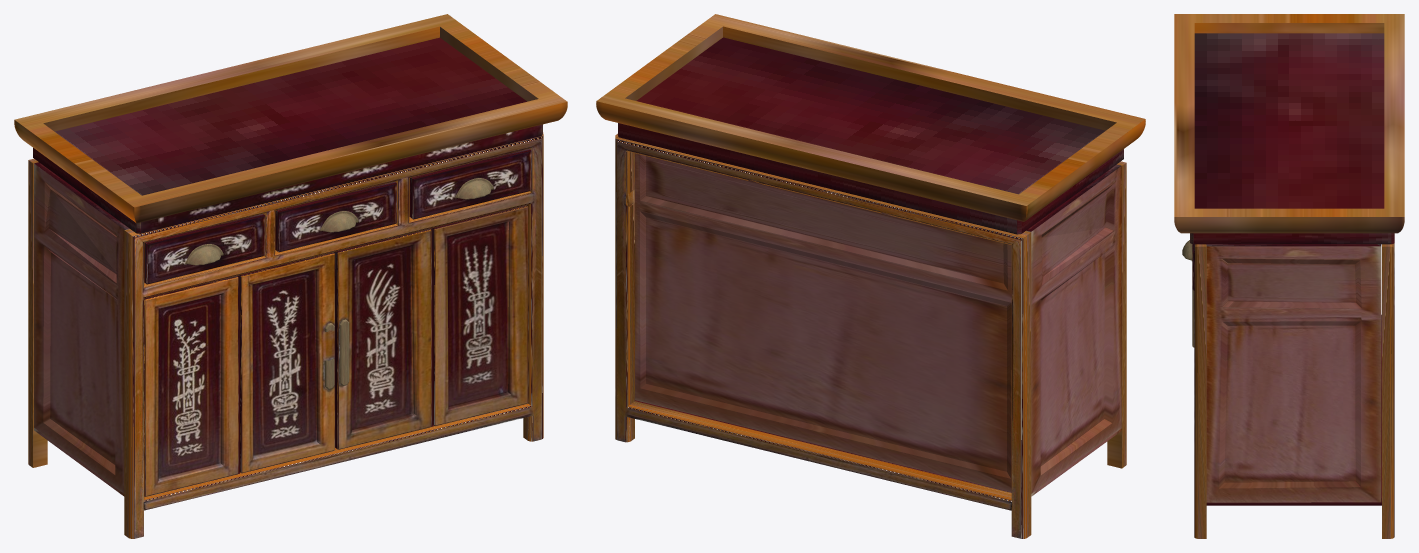
File: artisanal_sideboard.glb
3 views of the same model, side by side, from view 1: azimuth 30°, elevation 25°; view 2: azimuth 150°, elevation 25°; view 3: azimuth 270°, elevation 25° (orthographic). The views are drawn at different scales.
Visible parts, largest first — view 1: Object_4, Object_18, Object_24, Object_28, Object_20, Object_19, Object_10, Object_29, Object_16, Object_5, Object_12; view 2: Object_22, Object_18, Object_24, Object_20, Object_31, Object_19, Object_5, Object_29; view 3: Object_25, Object_18, Object_20, Object_19, Object_5, Object_29, Object_31, Object_12, Object_28.
Boxes of the visible parts, x1,y1,x2,y2 form: Object_4: (144, 206, 528, 496); Object_18: (55, 37, 526, 195); Object_24: (34, 163, 124, 496); Object_28: (132, 136, 542, 538); Object_20: (15, 14, 567, 467); Object_19: (14, 26, 567, 223); Object_10: (144, 149, 531, 284); Object_29: (124, 132, 543, 538); Object_16: (136, 124, 542, 233); Object_5: (33, 148, 529, 474); Object_12: (185, 178, 493, 389); Object_22: (635, 153, 1030, 491); Object_18: (636, 37, 1105, 194); Object_24: (1031, 166, 1121, 496); Object_20: (596, 14, 1144, 538); Object_31: (615, 139, 1023, 538); Object_19: (596, 26, 1145, 221); Object_5: (618, 123, 1123, 492); Object_29: (1107, 161, 1126, 468); Object_25: (1206, 246, 1381, 502); Object_18: (1194, 33, 1384, 208); Object_20: (1174, 14, 1404, 538); Object_19: (1174, 23, 1404, 233); Object_5: (1193, 233, 1394, 505); Object_29: (1195, 244, 1206, 538); Object_31: (1393, 243, 1394, 537); Object_12: (1182, 240, 1194, 347); Object_28: (1194, 244, 1194, 537).
Size of the model in its own units: 1.14 by 0.8618 by 0.5494.
Materials: 15 (14 with a texture image).
